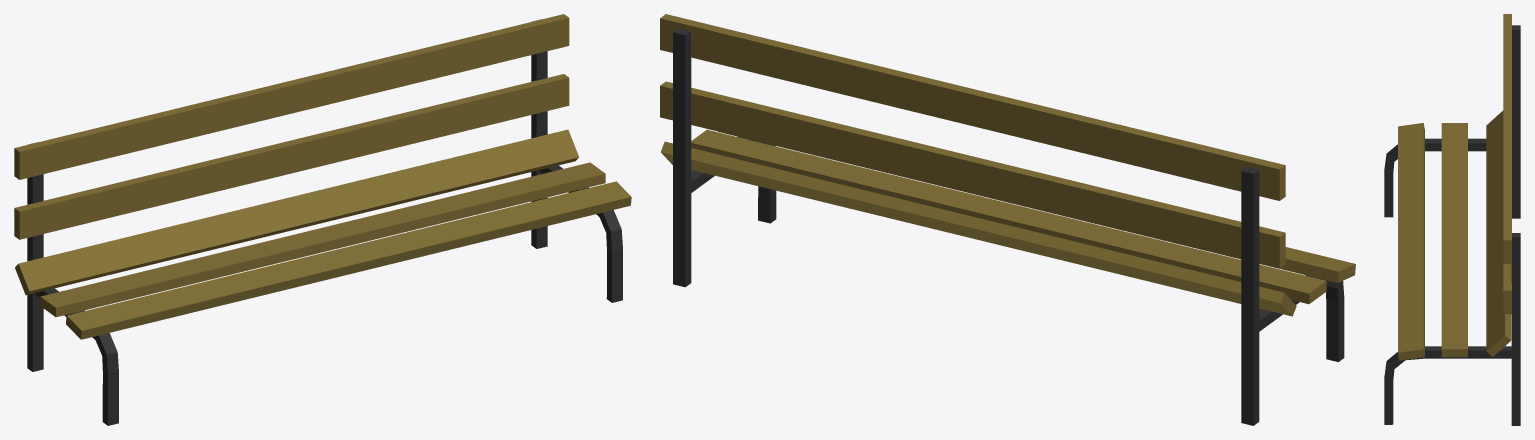
The model's file is bench.glb.
The picture shows the model from 3 angles, left to right: view 1: azimuth 30°, elevation 25°; view 2: azimuth 150°, elevation 25°; view 3: azimuth 270°, elevation 25°; orthographic projection. The views are drawn at different scales.
Visible parts, largest first — view 1: bench; view 2: bench; view 3: bench.
Boxes of the visible parts, <box> form: bench: <box>14,14,631,425</box>; bench: <box>660,14,1355,425</box>; bench: <box>1384,14,1520,425</box>.
Bounding box in the file's own units: 1.93 × 0.7649 × 0.4903.
1 material, 1 textured.
